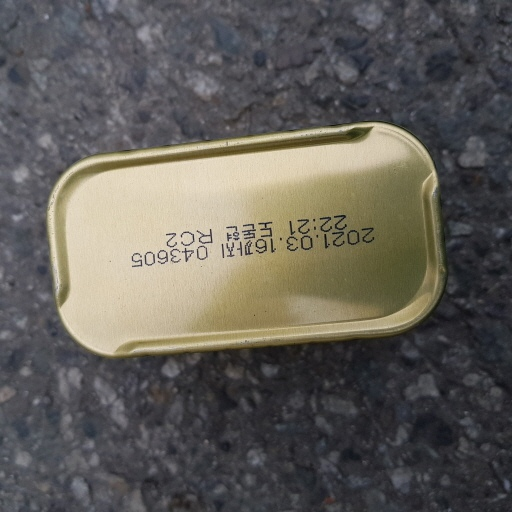Metal_2: (49, 119, 448, 362)
